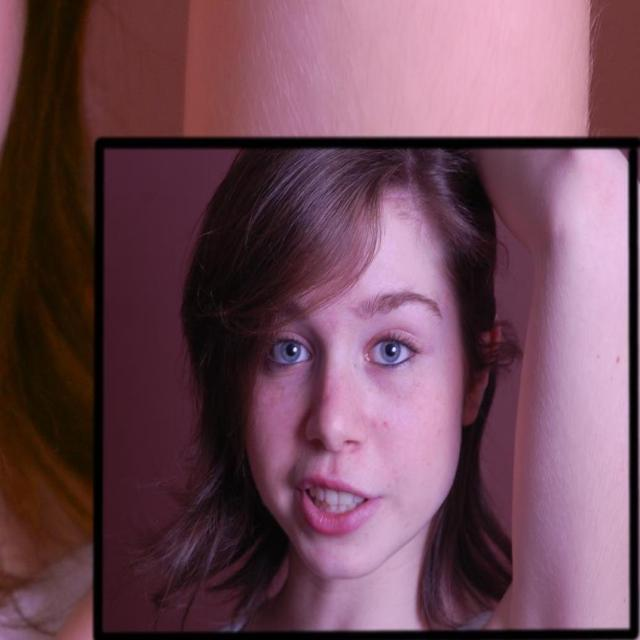no-glass: (259, 328, 413, 372)
